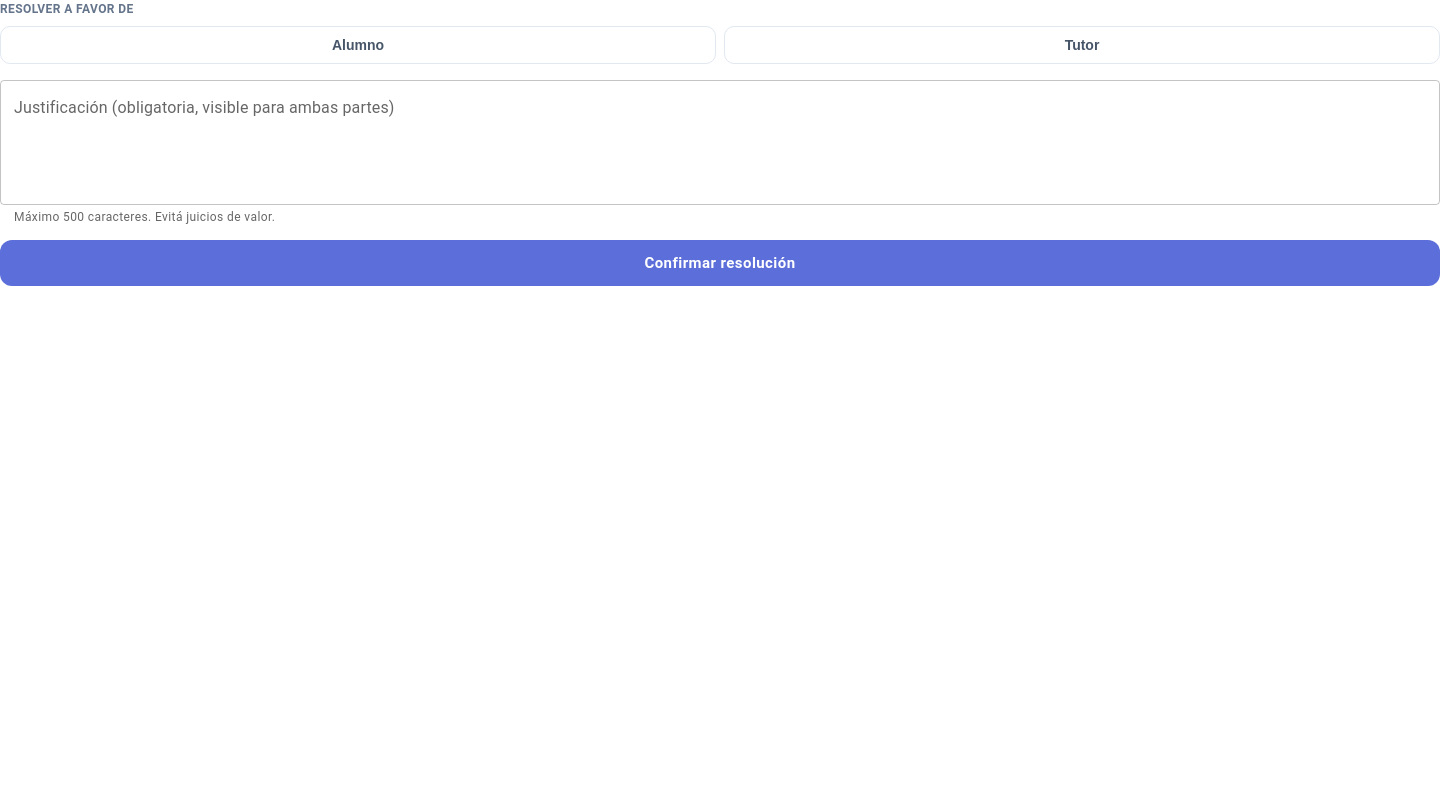
Test: ClaimResolutionForm › cancelar la confirmación conserva la parte y la justificación
Click the radio button labelled "Tutor" at (1082, 45), box [724, 26, 1439, 64]
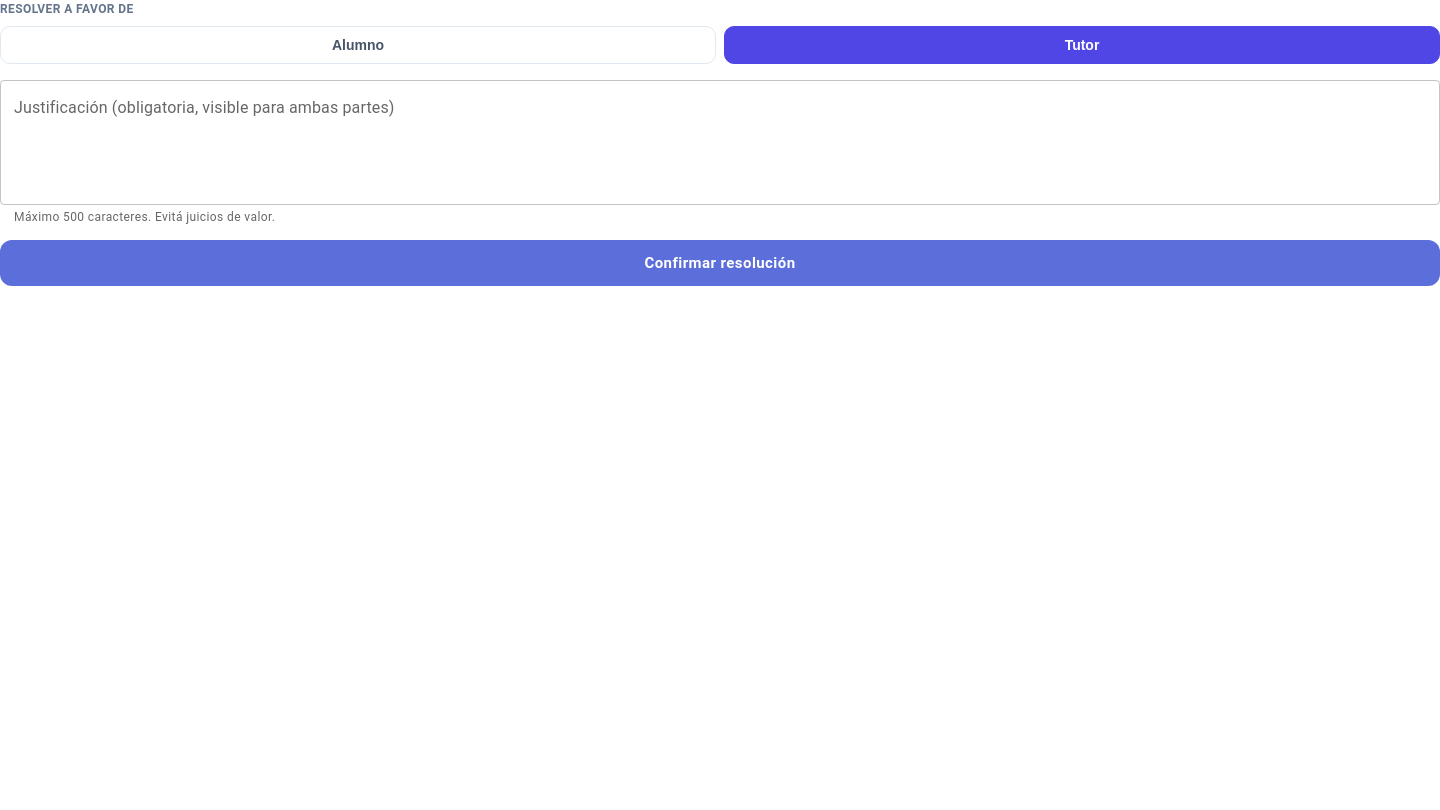
Replace the text in the text box labelled "Justificación (obligatoria, visible para ambas partes)" with "Se verificó la asistencia del alumno." at (720, 142), box [14, 96, 1426, 188]
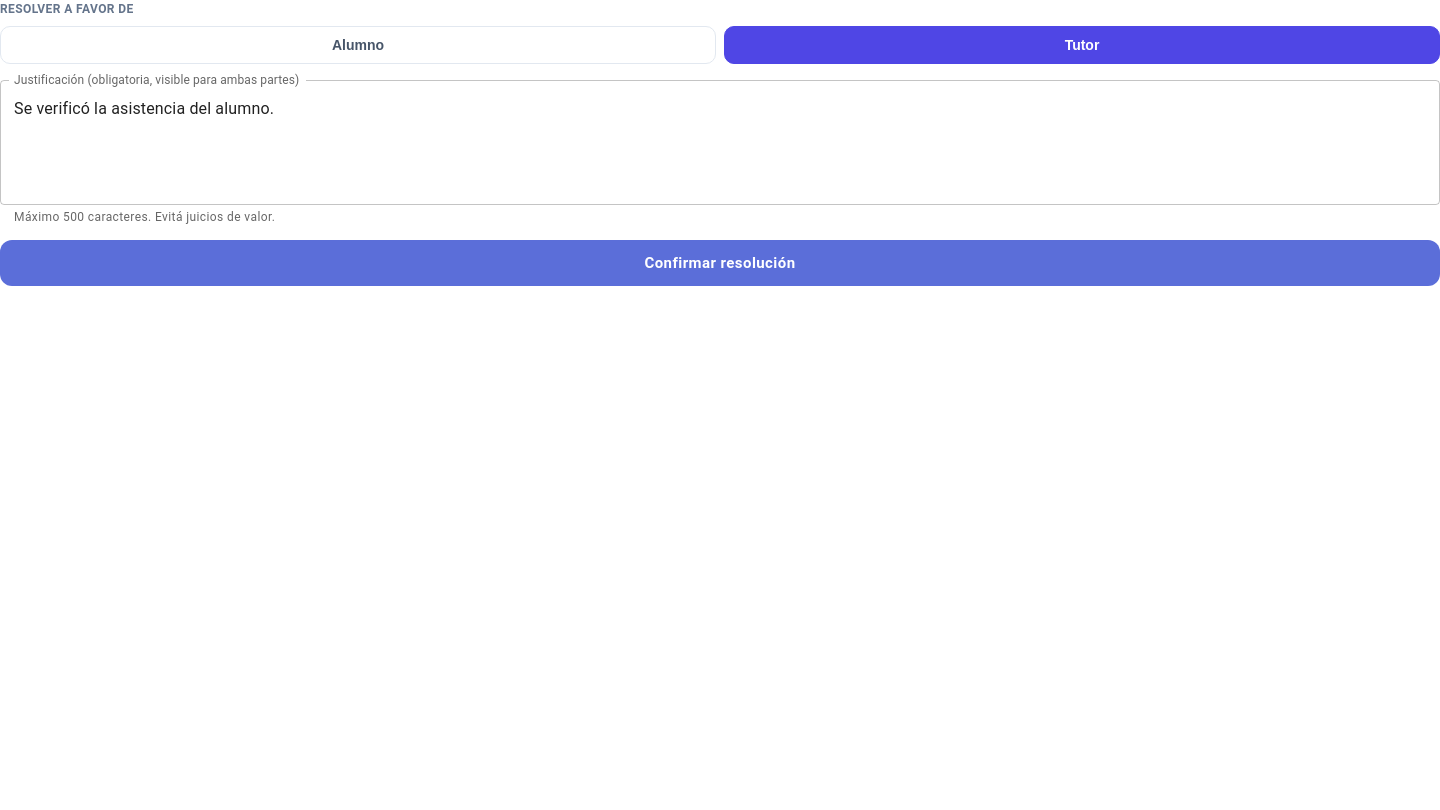
Click the button "Confirmar resolución" at (720, 263), box [0, 240, 1439, 286]
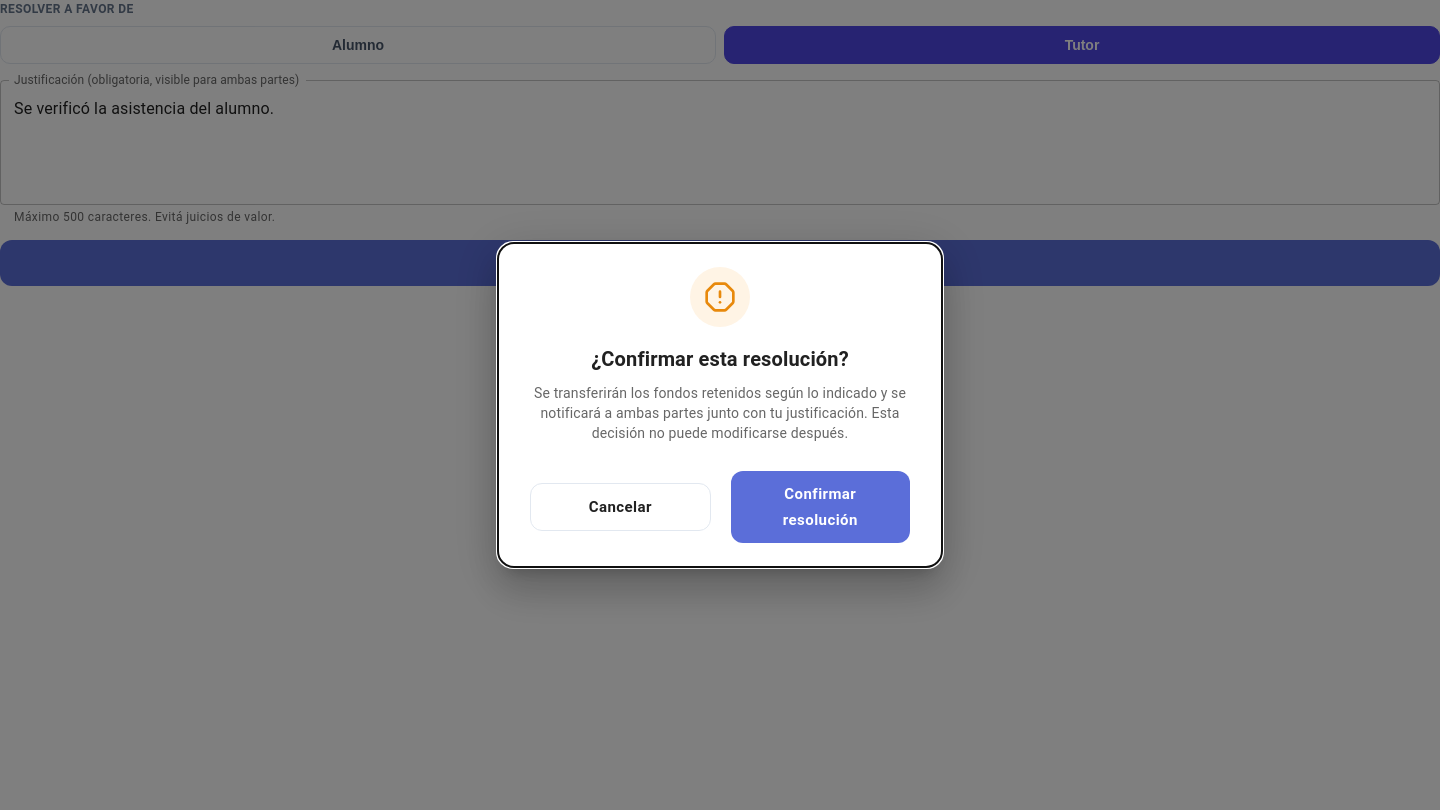
Click the button "Cancelar" at (620, 507), box [530, 483, 711, 531]
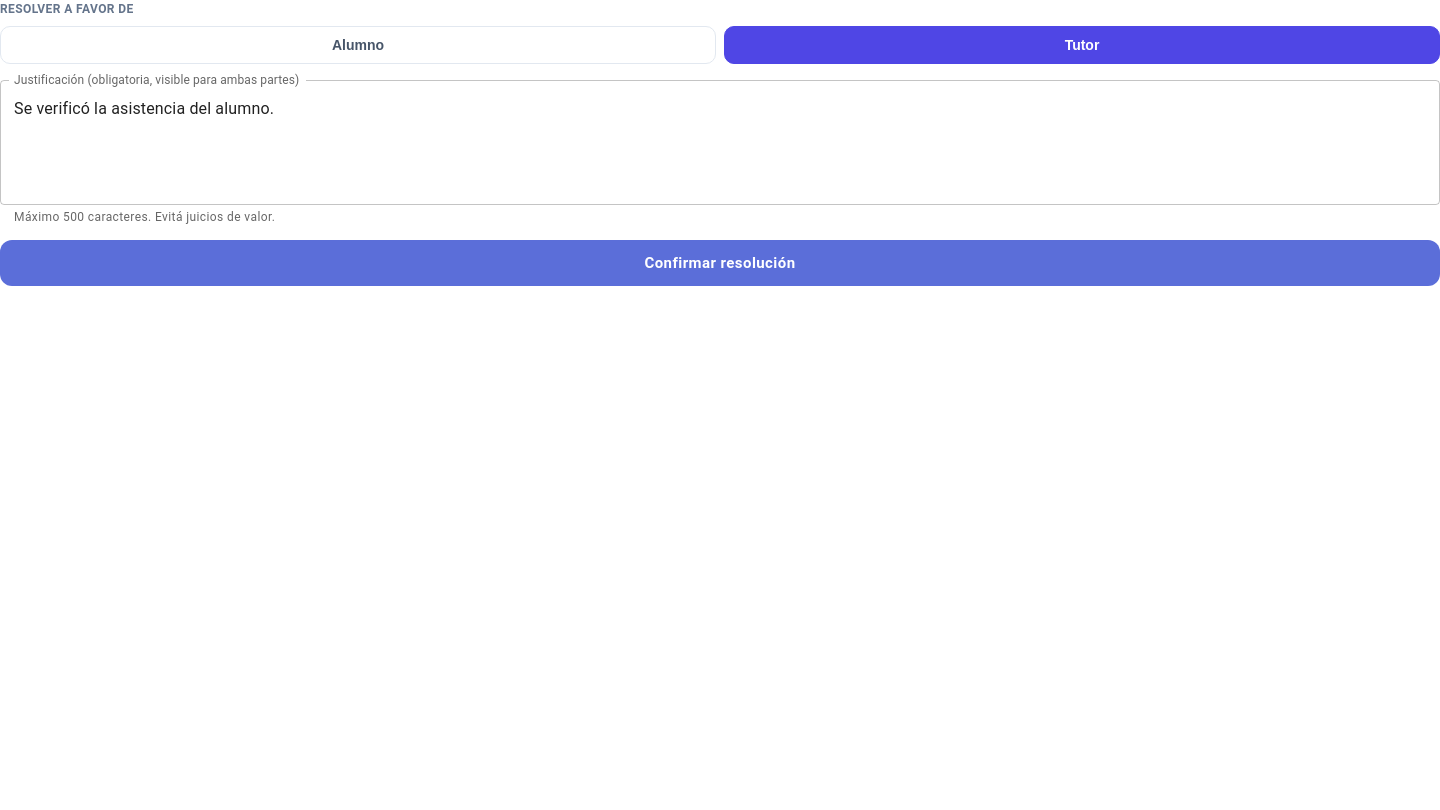
Expected: the dialog is gone
